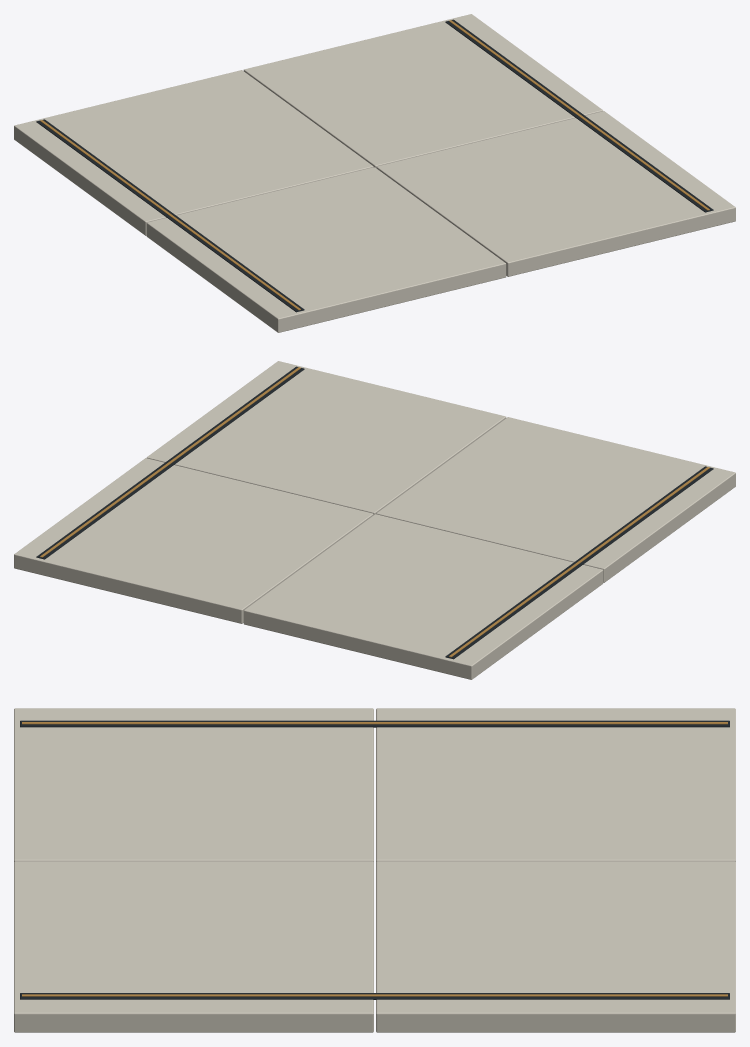
Rendered from SM_Aurelion_KIT_Floor_4m.fbx.
3 views of the same model, one above another, from view 1: azimuth 30°, elevation 25°; view 2: azimuth 150°, elevation 25°; view 3: azimuth 270°, elevation 25° (orthographic). The views are drawn at different scales.
Parts seen in each view (by area): view 1: SM_Aurelion_KIT_Floor_4m; view 2: SM_Aurelion_KIT_Floor_4m; view 3: SM_Aurelion_KIT_Floor_4m.
Part boxes in pixels (x1=…): SM_Aurelion_KIT_Floor_4m: x1=14, y1=14, x2=735, y2=332; SM_Aurelion_KIT_Floor_4m: x1=14, y1=361, x2=735, y2=679; SM_Aurelion_KIT_Floor_4m: x1=14, y1=708, x2=735, y2=1032.
Bounding box in the file's own units: 399 × 399 × 13.1.
